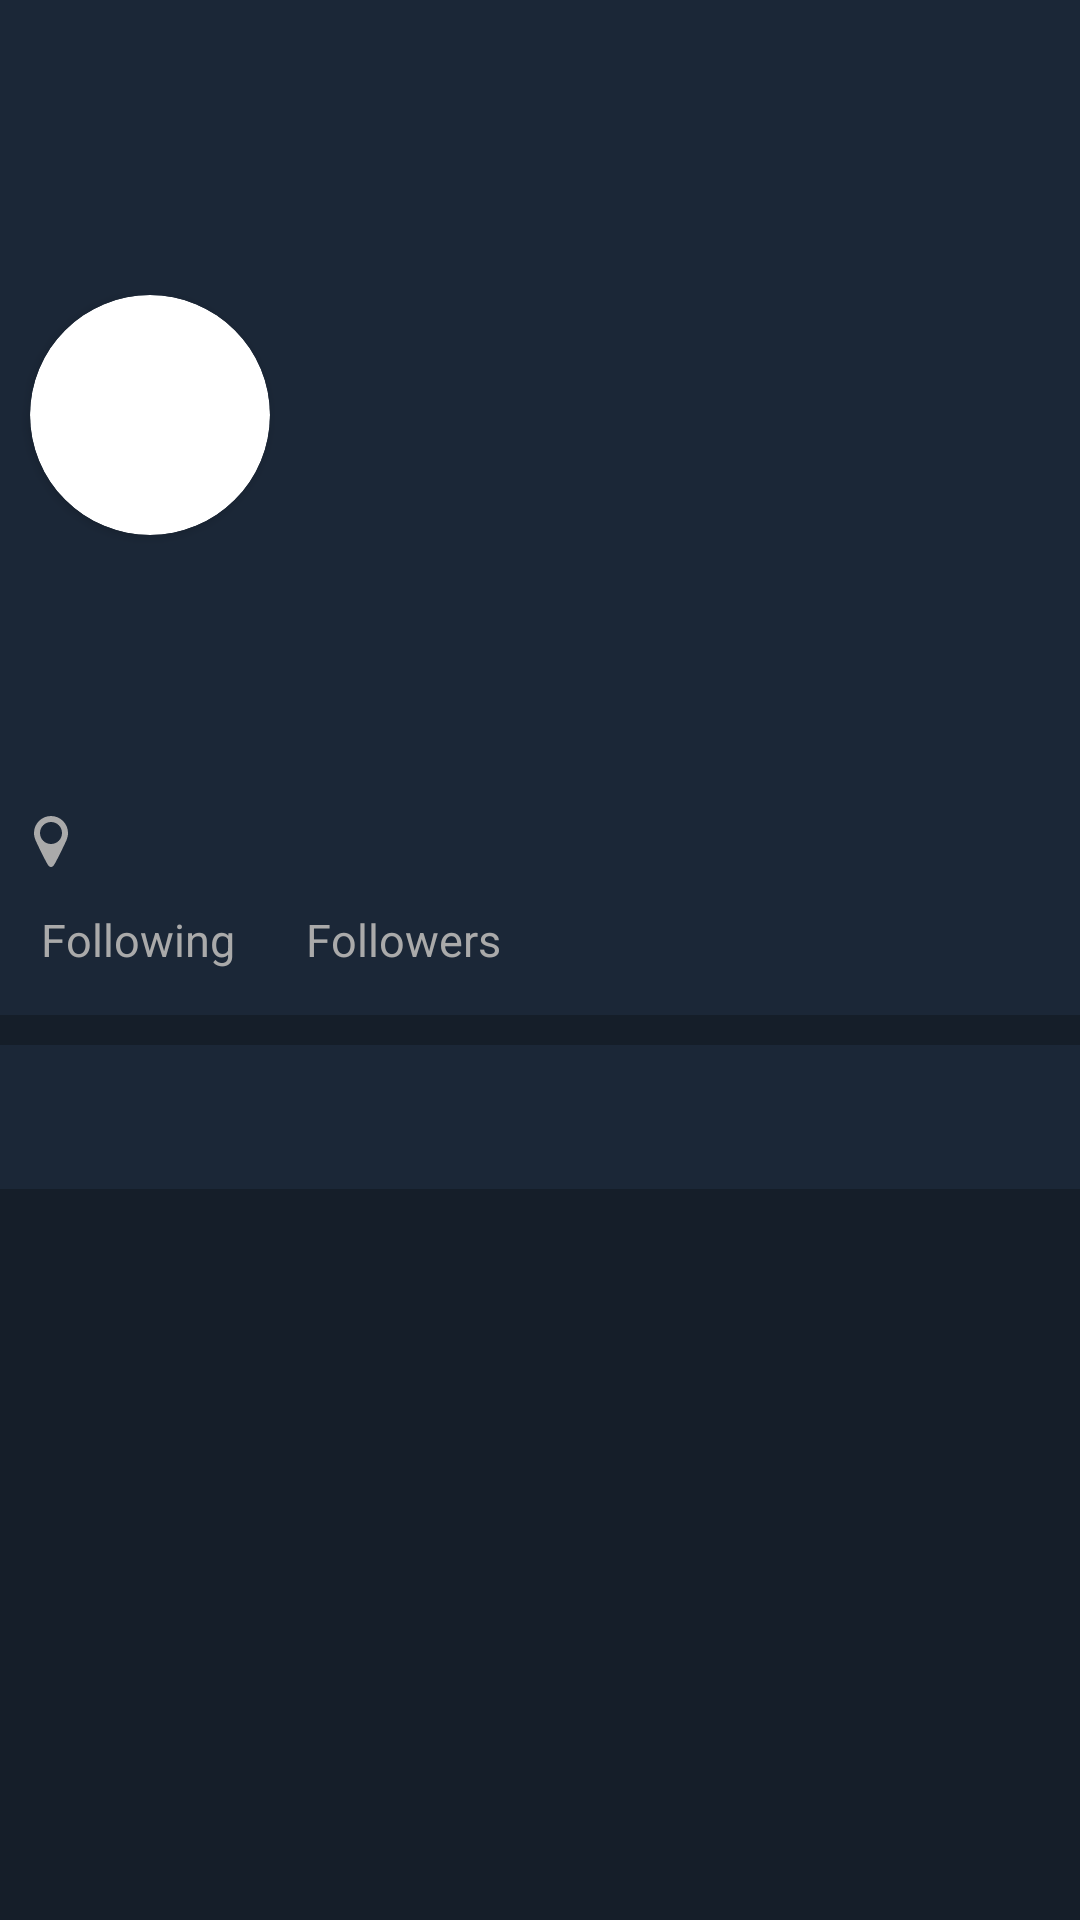

Where to tap for icons on this 1080px x 1920px app screen, as point (x, y):
location: point (51, 841)
